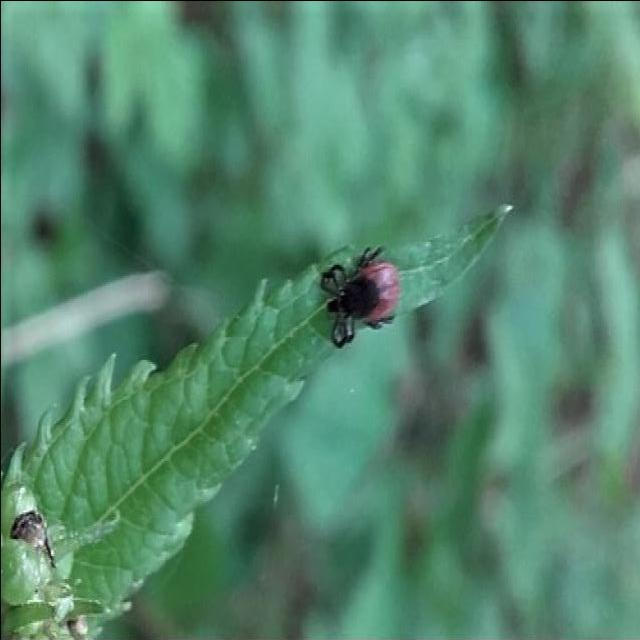Ixodes Ricinus-F: (319, 246, 399, 349)
